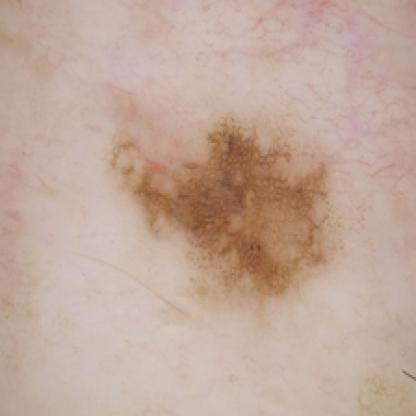benign: (110, 106, 356, 297)
